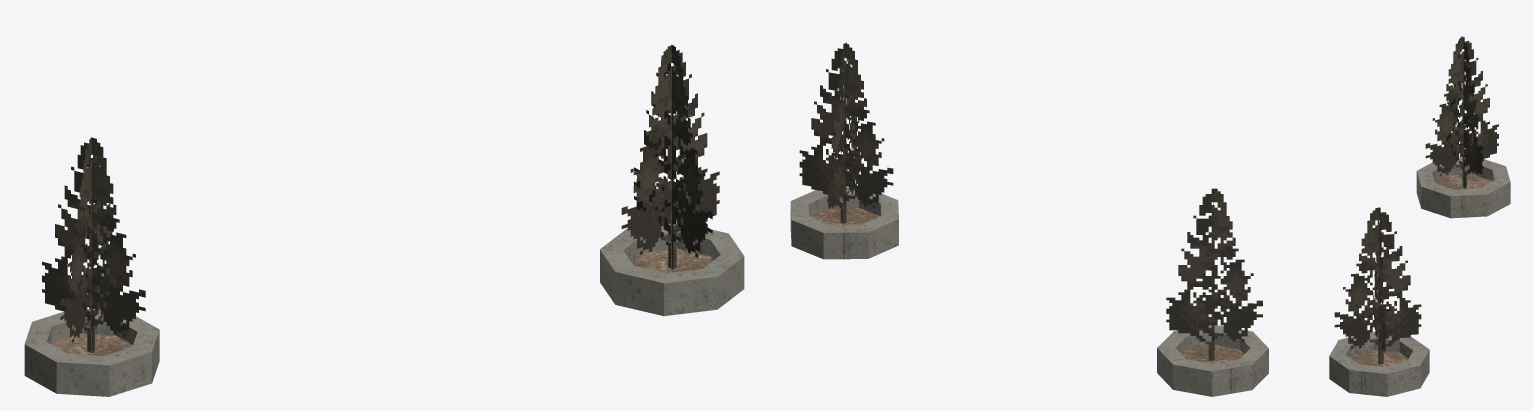
The model's file is procgen-procpain-tree-park-pine-large-x1z2.obj.
3 renders of one model, left to right at view 1: azimuth 30°, elevation 25°; view 2: azimuth 150°, elevation 25°; view 3: azimuth 270°, elevation 25°, orthographic. The views are drawn at different scales.
Bounding box in the file's own units: 29.57 × 10.15 × 11.21.
